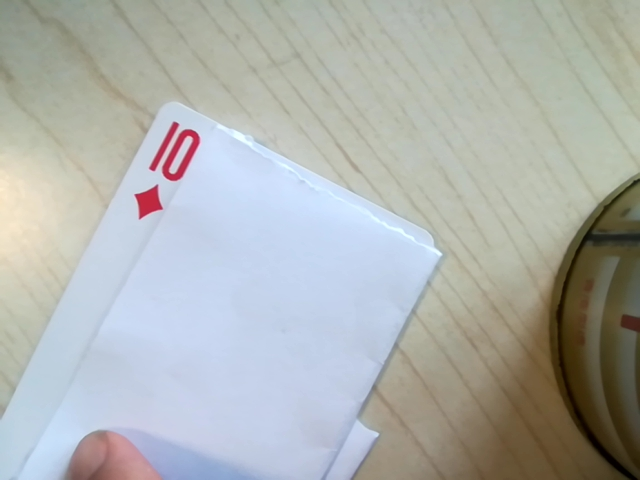fk 10: (126, 116, 208, 223)
